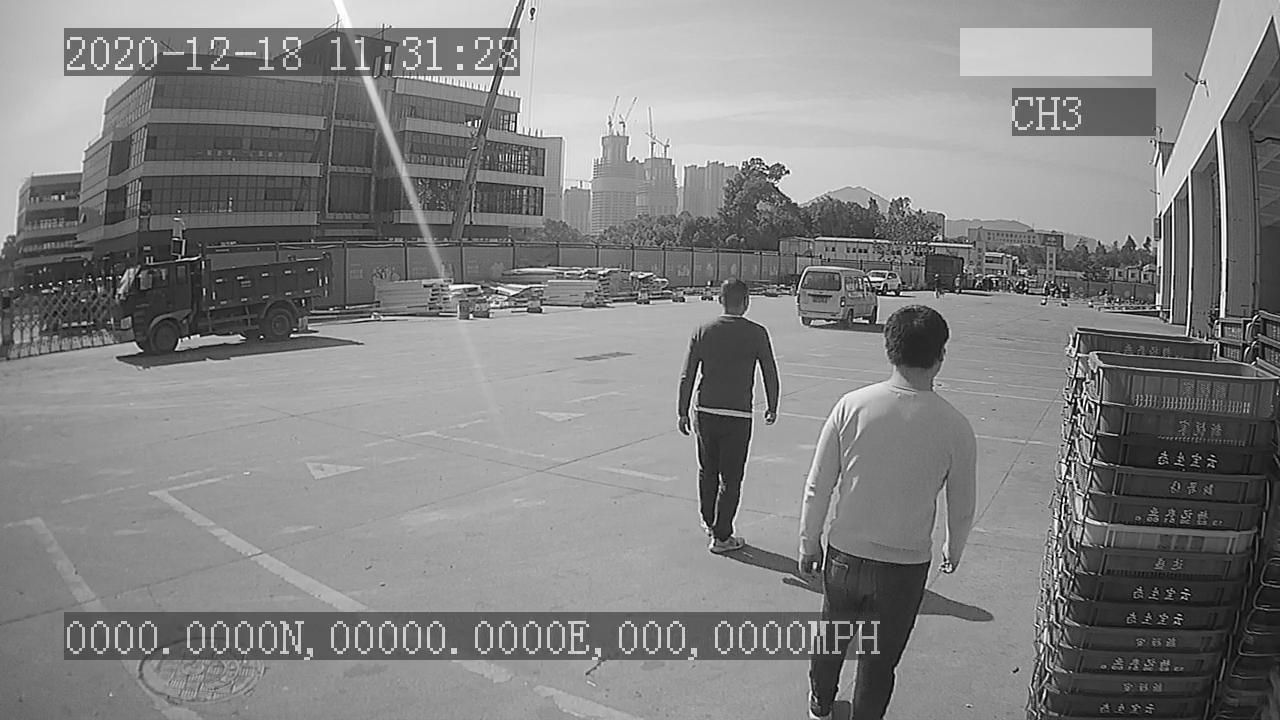person: (678, 274, 780, 555)
